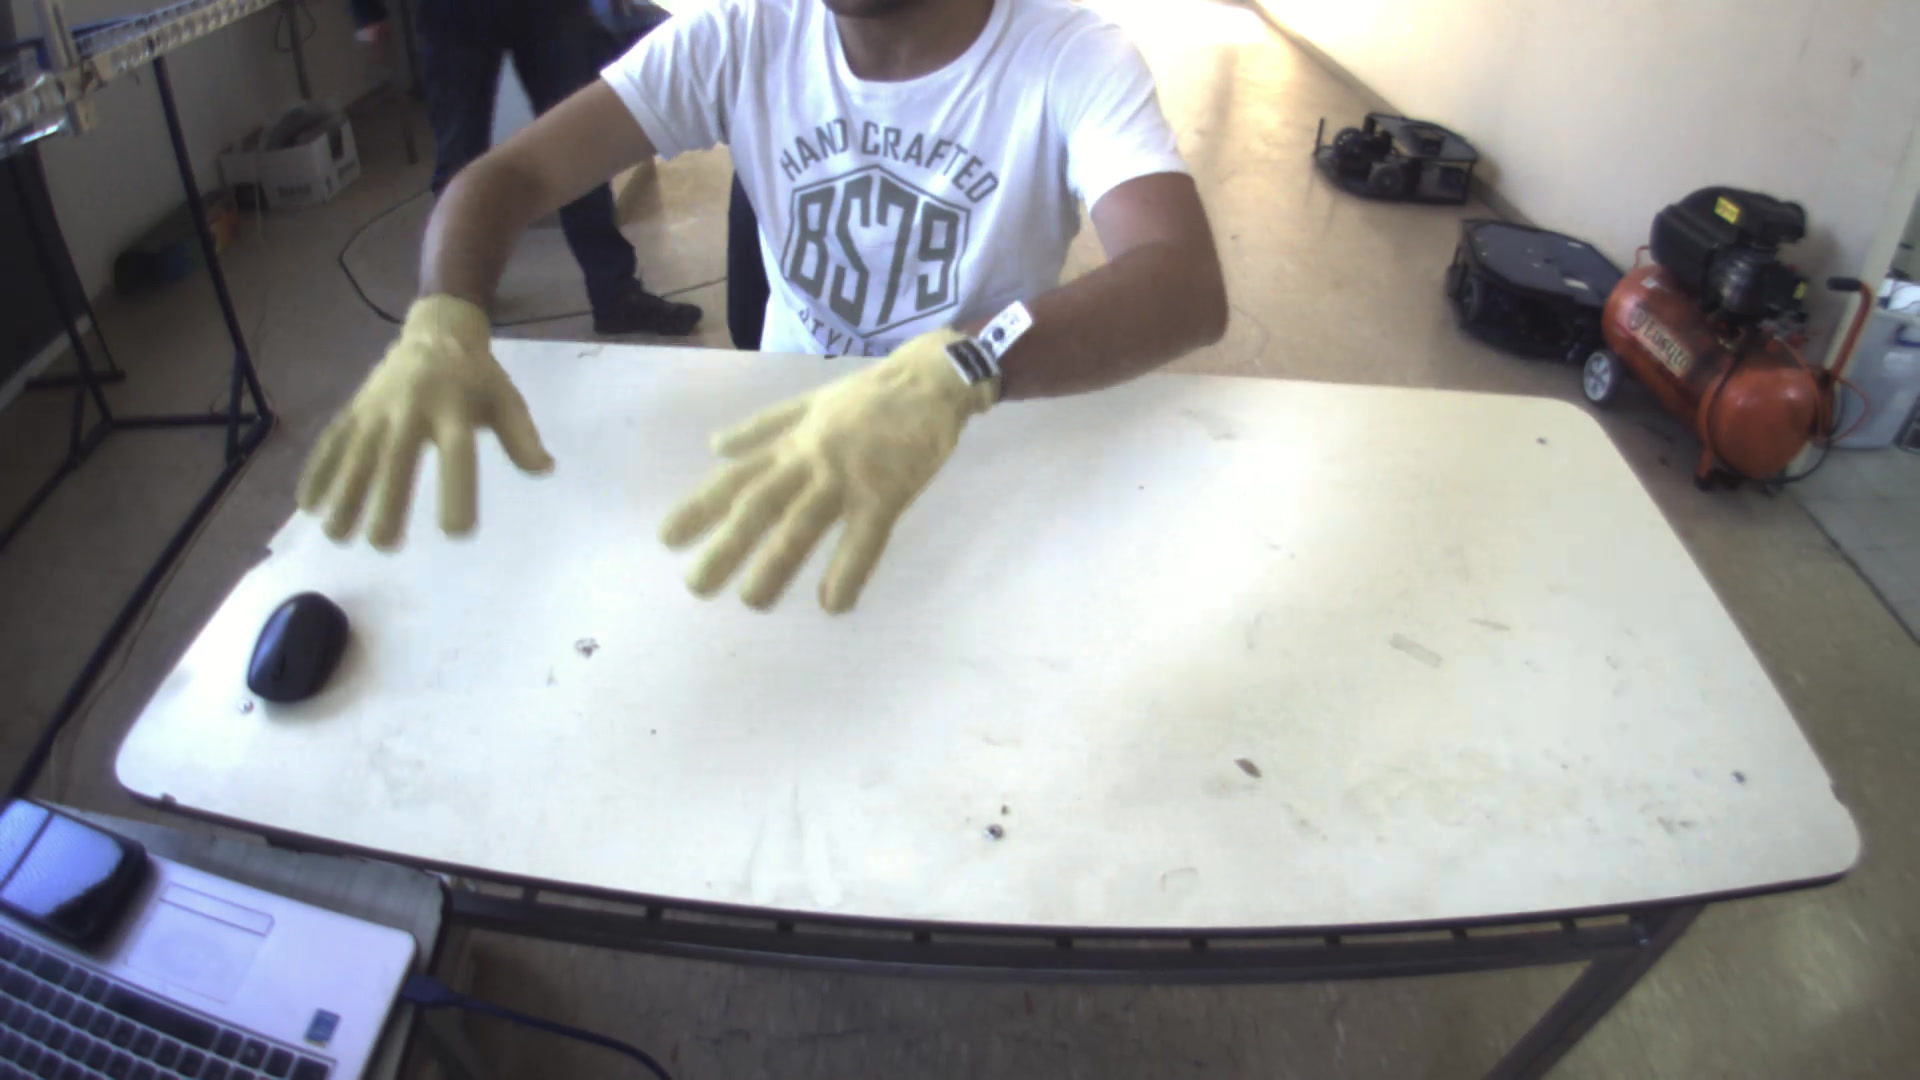hand: (641, 316, 1018, 618), (285, 286, 560, 555)
